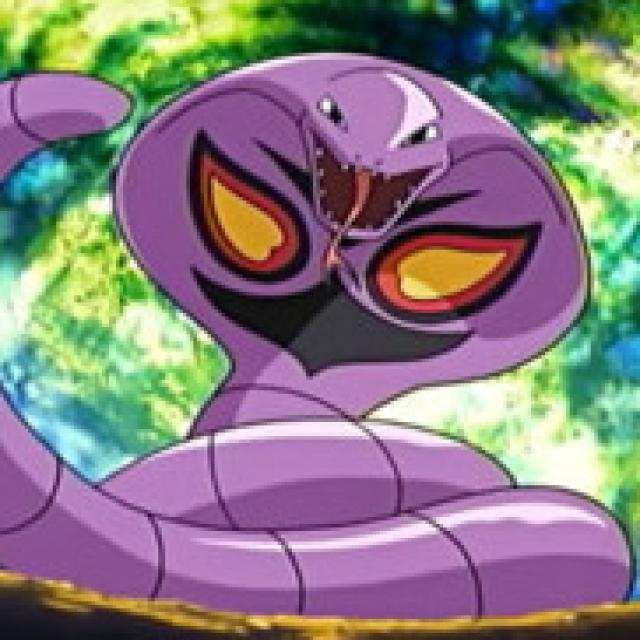Arbok: (79, 36, 606, 553)
